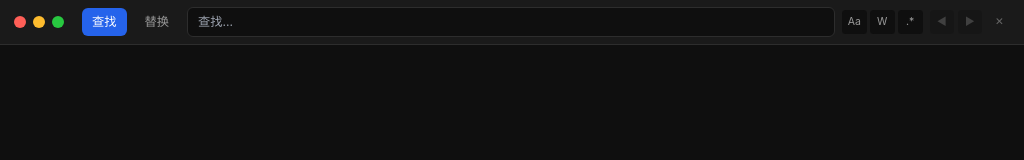
FindReplaceBar — Inline Bar (Typora-style) › shows match preview with line and column info
Type "World" into the field with placeholder "查找..." at (511, 22), box [186,7,835,37]
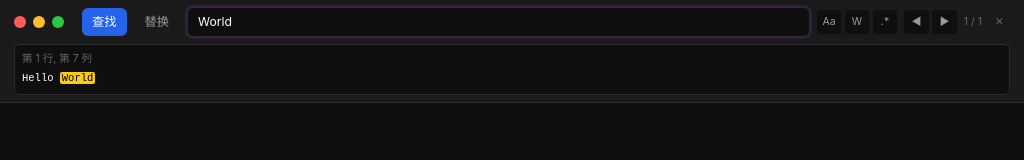
Now the text "第 1 行, 第 7 列" is shown, box [22,52,92,65]
